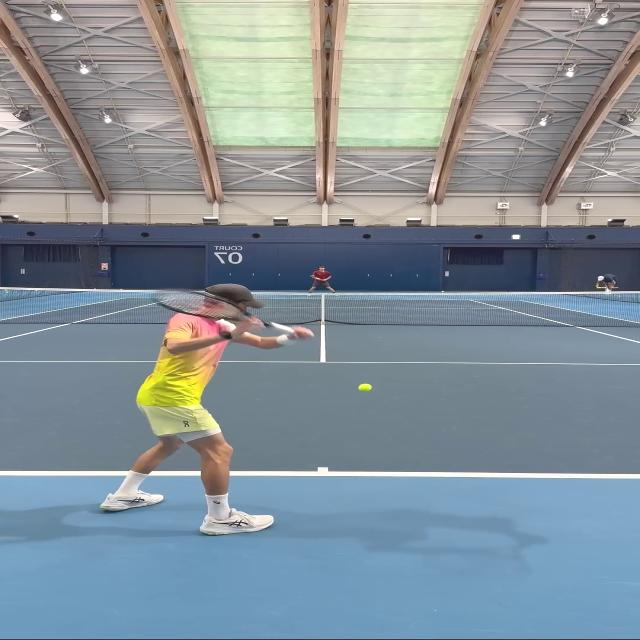tennis_ball: (360, 385, 370, 390)
